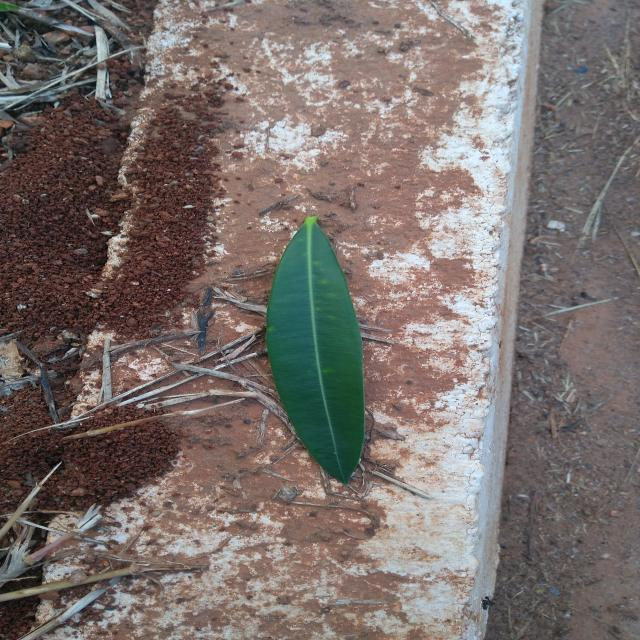ganigale: (267, 216, 364, 484)
